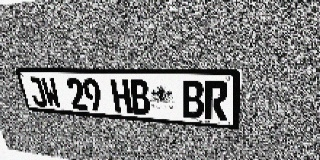2: (65, 78, 88, 110)
9: (81, 78, 104, 111)
B: (181, 80, 204, 119), (128, 79, 151, 115)
H: (110, 79, 133, 114)
J: (26, 77, 48, 107)
R: (204, 81, 228, 121)
W: (40, 77, 62, 108)
